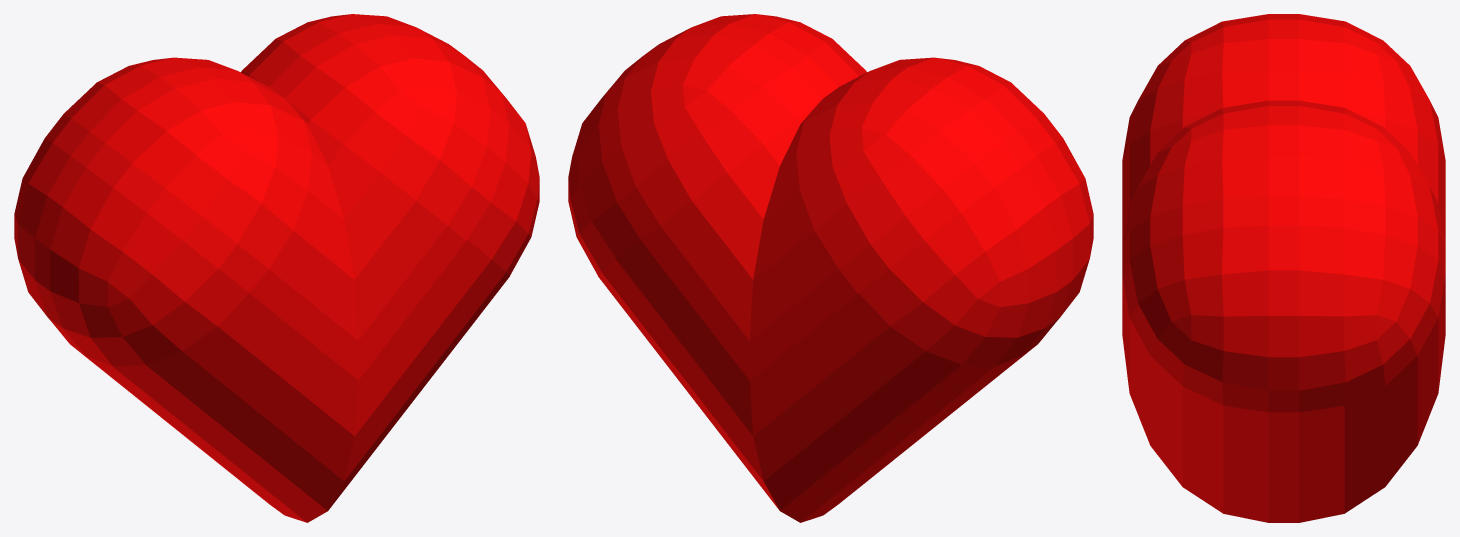
The model's file is hearth.glb.
The picture shows the model from 3 angles, left to right: view 1: azimuth 30°, elevation 25°; view 2: azimuth 150°, elevation 25°; view 3: azimuth 270°, elevation 25°; orthographic projection.
Parts seen in each view (by area): view 1: Cube; view 2: Cube; view 3: Cube.
Part boxes in pixels (bbox=[...]): Cube: bbox=[14, 14, 539, 522]; Cube: bbox=[568, 14, 1093, 522]; Cube: bbox=[1122, 14, 1445, 522].
Size of the model in its own units: 3.32 by 3.08 by 2.
1 material, 1 textured.
